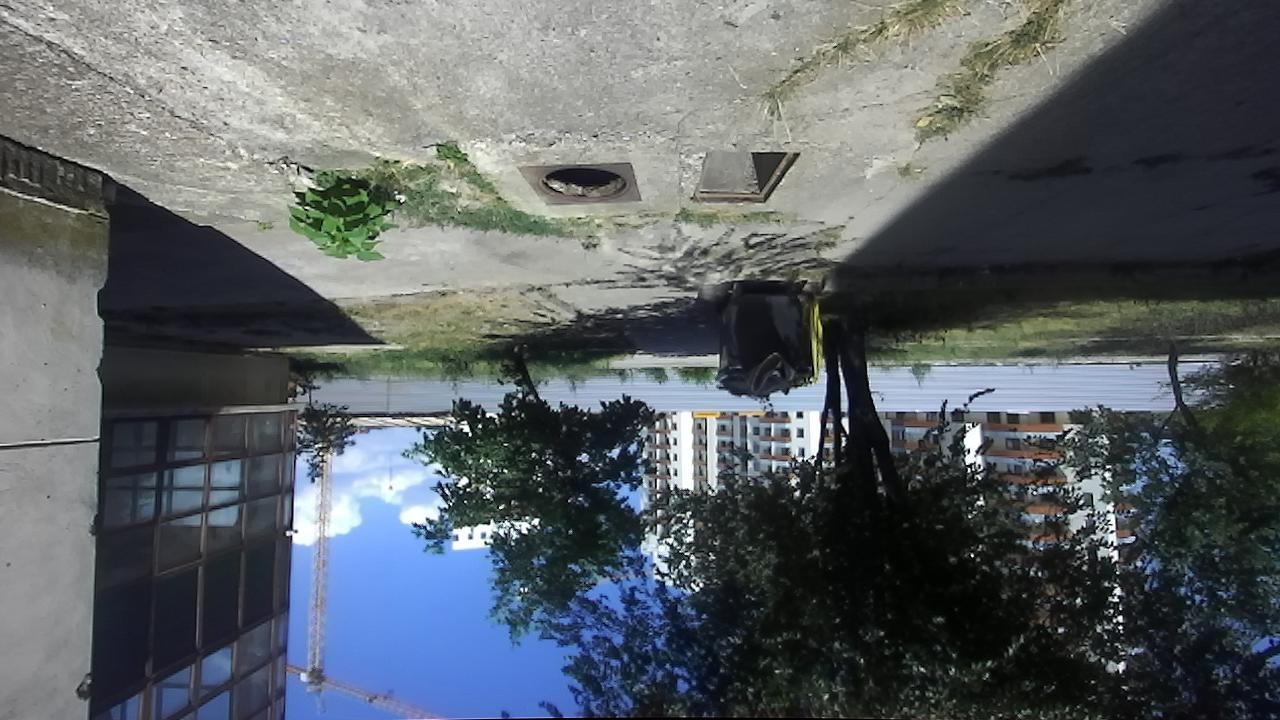drain: (687, 146, 804, 206), (535, 160, 628, 203)
